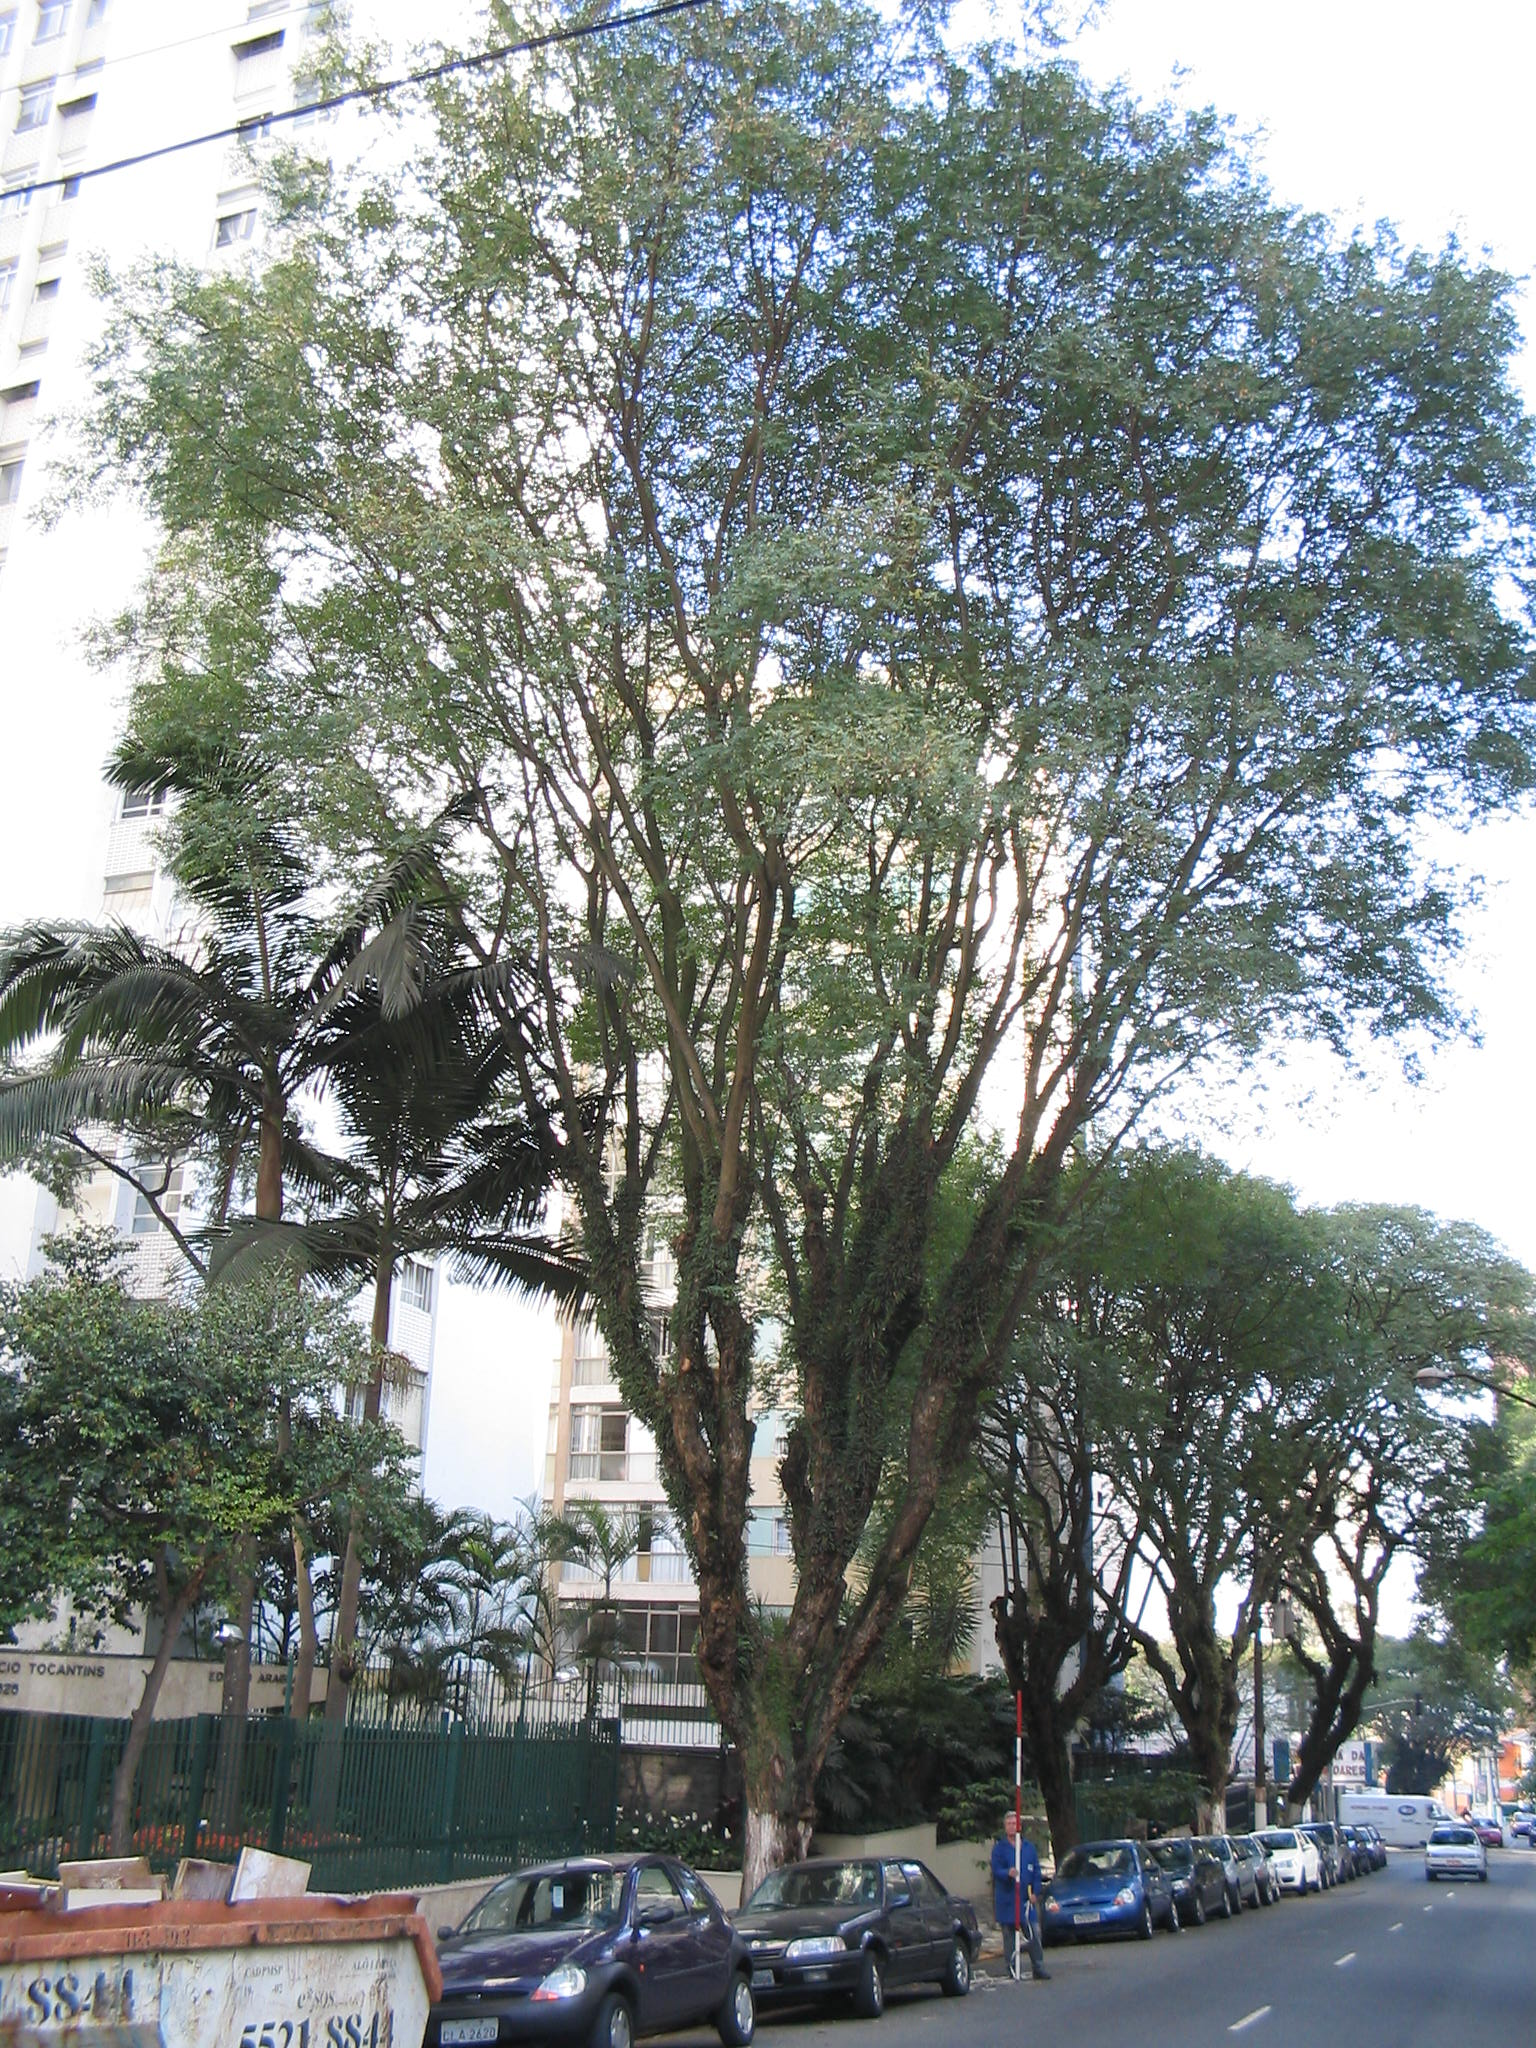crown: (48, 8, 1526, 1166), (3, 1245, 416, 1624)
stem: (708, 1774, 836, 1975)
stick: (991, 1687, 1042, 1975)
tree: (39, 5, 1526, 1982), (1217, 1200, 1536, 1850)
